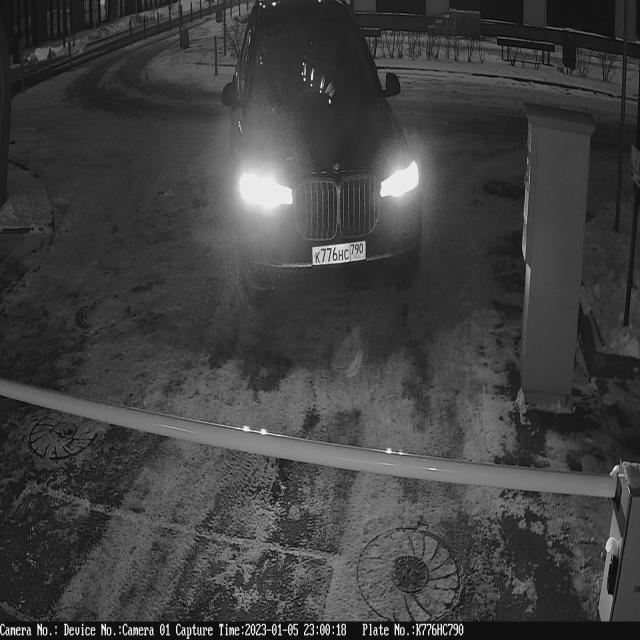car-plate-numbers: (308, 239, 372, 275)
